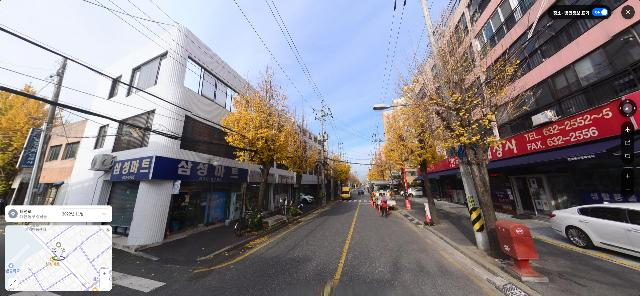ginkgo: (383, 0, 541, 257), (220, 60, 302, 229), (380, 96, 450, 224), (1, 84, 71, 206), (284, 108, 317, 215), (328, 154, 351, 198)
